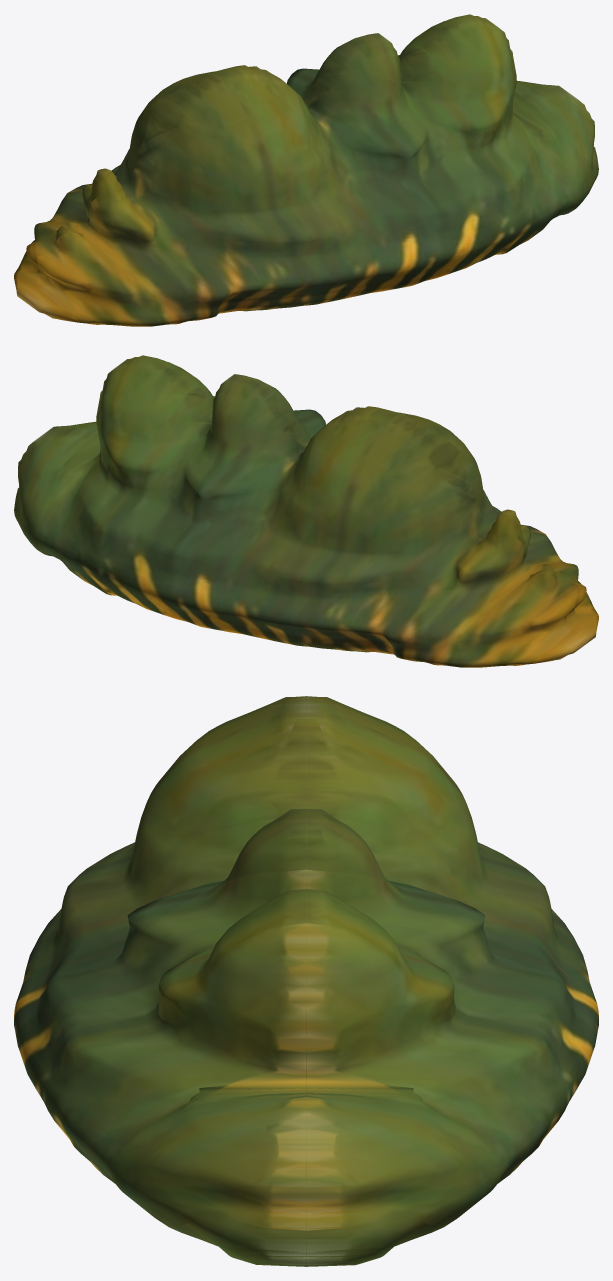
File: 01_rocks_and_bushes_r02_c02.glb
3 views of the same model, one above another, from view 1: azimuth 30°, elevation 25°; view 2: azimuth 150°, elevation 25°; view 3: azimuth 270°, elevation 25° (orthographic). The views are drawn at different scales.
Visible parts, largest first — view 1: 01_rocks_and_bushes_r02_c02; view 2: 01_rocks_and_bushes_r02_c02; view 3: 01_rocks_and_bushes_r02_c02.
Boxes of the visible parts, x1,y1,x2,y2 form: 01_rocks_and_bushes_r02_c02: (14,14,598,326); 01_rocks_and_bushes_r02_c02: (14,355,598,667); 01_rocks_and_bushes_r02_c02: (14,696,598,1266).
Size of the model in its own units: 2.77 by 1.04 by 1.58.
1 material, 1 textured.
